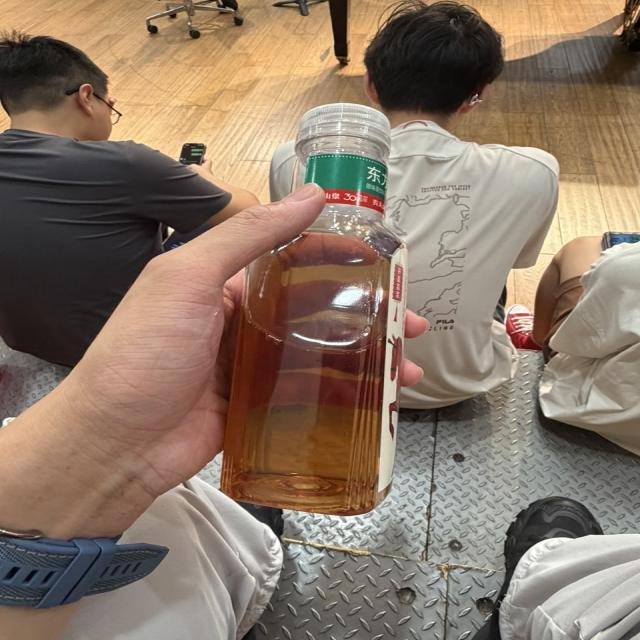medium: (221, 104, 407, 514)
